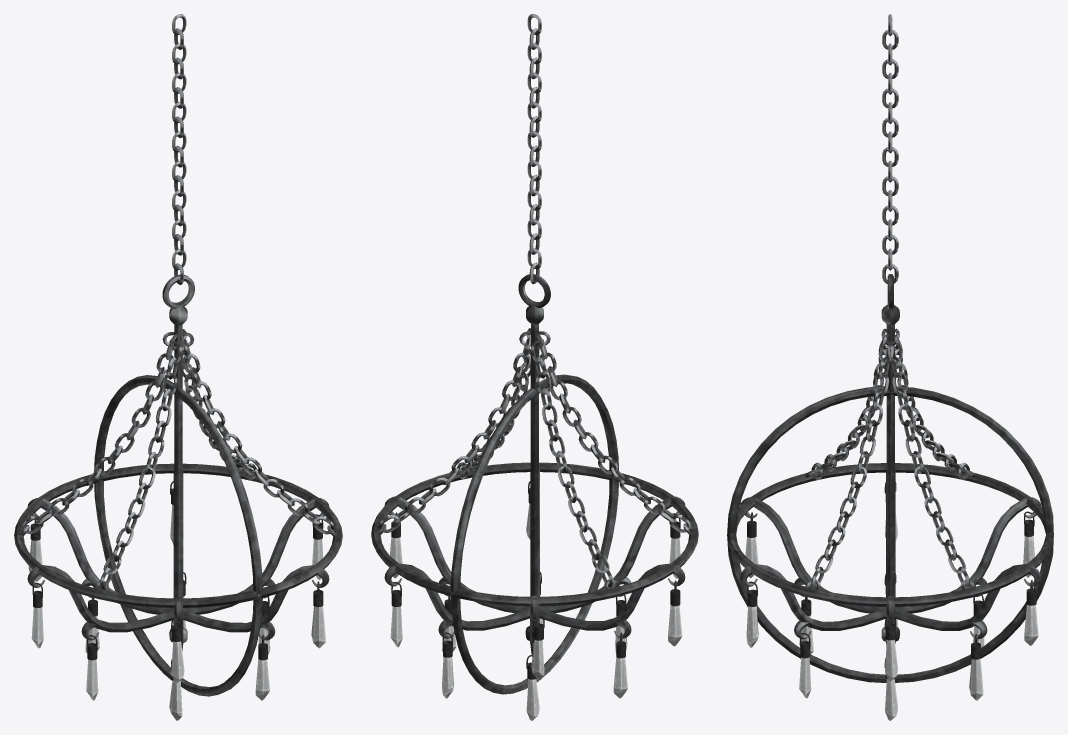
The model's file is CL_Chandelier_White.fbx.
3 views of the same model, side by side, from view 1: azimuth 30°, elevation 25°; view 2: azimuth 150°, elevation 25°; view 3: azimuth 270°, elevation 25° (orthographic).
Parts seen in each view (by area): view 1: Chandelier, Chain_chandelier, Crystal04__9_, Crystal04__5_, Crystal04__11_, Crystal04__1_, Crystal04__6_; view 2: Chandelier, Chain_chandelier, Crystal04__6_, Crystal04__1_, Crystal04__8_, Crystal04__2_, Crystal04__10_, Crystal04__4_; view 3: Chandelier, Chain_chandelier, Crystal04__2_, Crystal04__10_, Crystal04__7_, Crystal04__9_, Crystal04__5_.
Boxes of the visible parts, x1=… form: Chandelier: x1=14, y1=274, x2=342, y2=696; Chain_chandelier: x1=19, y1=14, x2=337, y2=591; Crystal04__9_: x1=311, y1=581, x2=325, y2=648; Crystal04__5_: x1=255, y1=634, x2=269, y2=700; Crystal04__11_: x1=171, y1=617, x2=184, y2=683; Crystal04__1_: x1=86, y1=635, x2=98, y2=700; Crystal04__6_: x1=31, y1=582, x2=43, y2=648; Chandelier: x1=371, y1=274, x2=698, y2=694; Chain_chandelier: x1=376, y1=14, x2=693, y2=589; Crystal04__6_: x1=668, y1=580, x2=682, y2=646; Crystal04__1_: x1=613, y1=632, x2=627, y2=698; Crystal04__8_: x1=531, y1=615, x2=544, y2=680; Crystal04__2_: x1=442, y1=632, x2=453, y2=698; Crystal04__10_: x1=390, y1=582, x2=402, y2=647; Crystal04__4_: x1=526, y1=655, x2=539, y2=720; Chandelier: x1=727, y1=274, x2=1053, y2=682; Chain_chandelier: x1=805, y1=14, x2=975, y2=590; Crystal04__2_: x1=969, y1=634, x2=983, y2=700; Crystal04__10_: x1=1024, y1=580, x2=1038, y2=645; Crystal04__7_: x1=884, y1=616, x2=897, y2=681; Crystal04__9_: x1=746, y1=581, x2=758, y2=647; Crystal04__5_: x1=799, y1=633, x2=811, y2=698.
Bounding box in the file's own units: 98.17 × 210 × 92.87.
2 materials, 2 textured.
